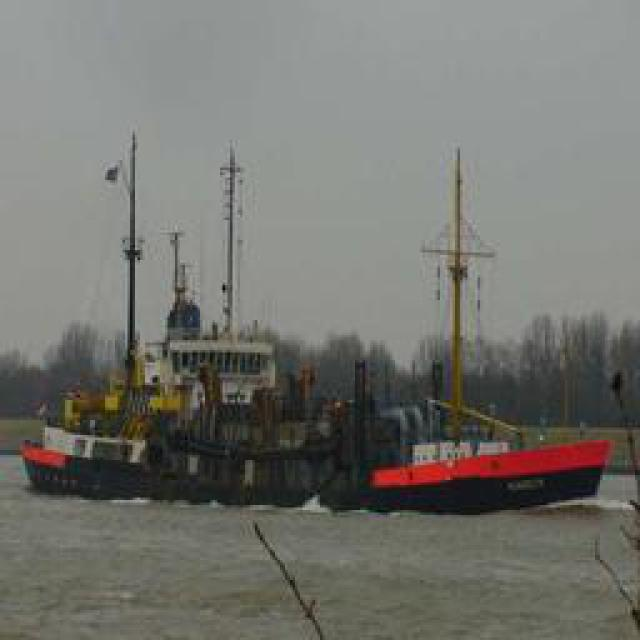Ship: (42, 402, 592, 505)
